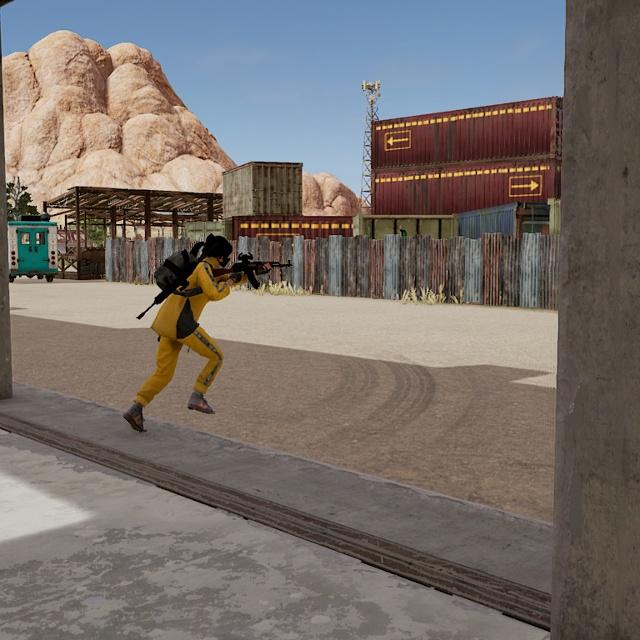head: (200, 232, 236, 274)
people: (125, 230, 240, 434)
